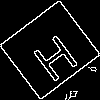H: (25, 25, 81, 84)
